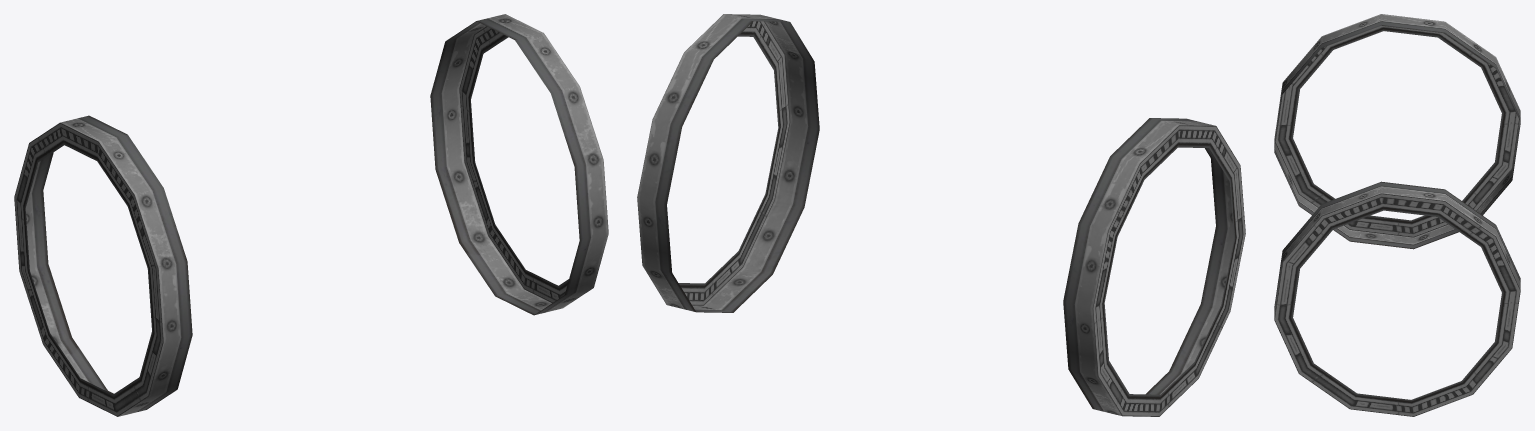
Rendered from Subway_Vents_Ring1_L1.fbx.
The picture shows the model from 3 angles, left to right: view 1: azimuth 30°, elevation 25°; view 2: azimuth 150°, elevation 25°; view 3: azimuth 270°, elevation 25°; orthographic projection. The views are drawn at different scales.
Visible parts, largest first — view 1: pCylinder14; view 2: pCylinder14; view 3: pCylinder14.
Boxes of the visible parts, left/top/right/bottom form: pCylinder14: left=14, top=14, right=608, bottom=416; pCylinder14: left=637, top=14, right=1245, bottom=416; pCylinder14: left=1274, top=14, right=1520, bottom=416.
Bounding box in the file's own units: 111 × 64.23 × 64.23.
